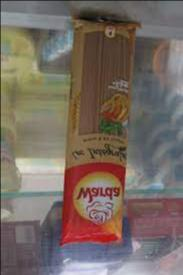Spaghetti: (61, 17, 139, 246)
